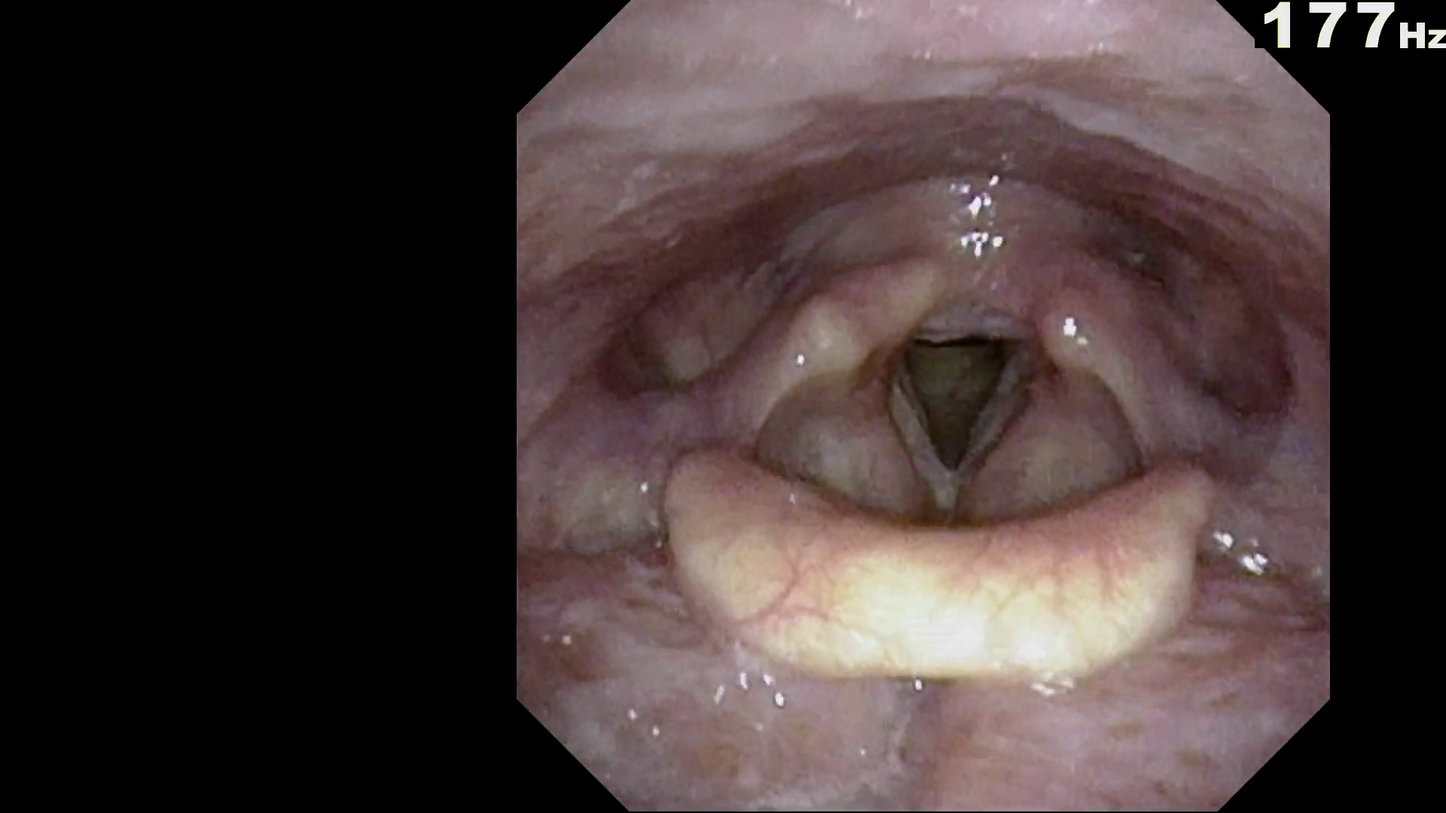epiglottis: (691, 453, 1185, 677)
trachea: (875, 317, 1028, 483)
